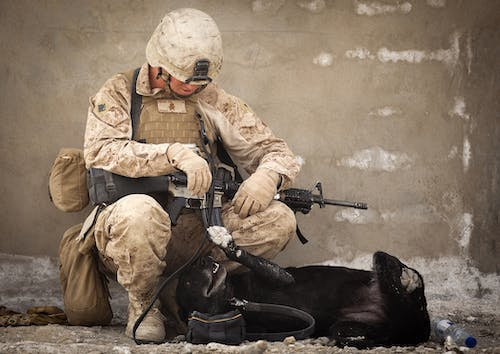gun: (84, 167, 371, 251)
